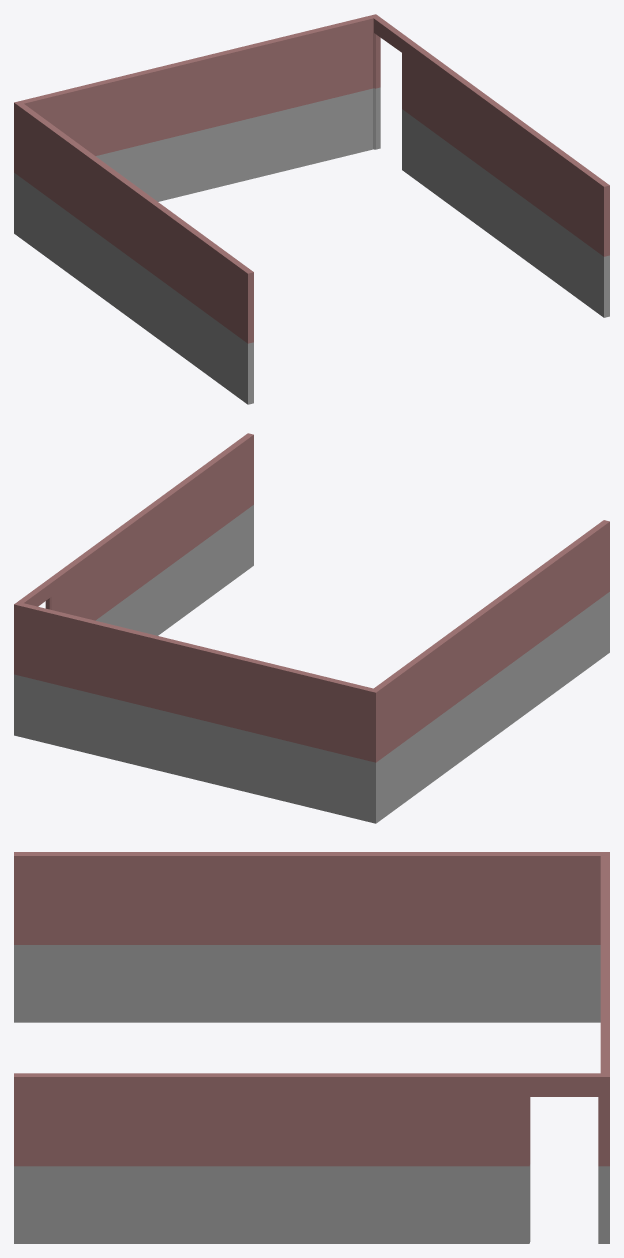
Rendered from level_06_walls.fbx.
3 views of the same model, one above another, from view 1: azimuth 30°, elevation 25°; view 2: azimuth 150°, elevation 25°; view 3: azimuth 270°, elevation 25° (orthographic). The views are drawn at different scales.
Parts seen in each view (by area): view 1: walls_05; view 2: walls_05; view 3: walls_05.
Part boxes in pixels (x1,y1,x2,y2): walls_05: (14, 14, 609, 404); walls_05: (14, 433, 609, 823); walls_05: (14, 852, 609, 1243).
Size of the model in its own units: 14.44 by 4.99 by 16.16.
